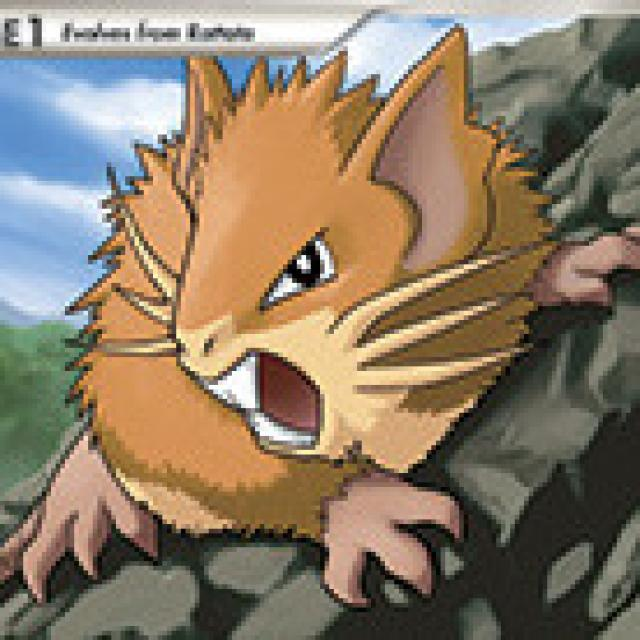Raticate: (47, 56, 526, 586)
